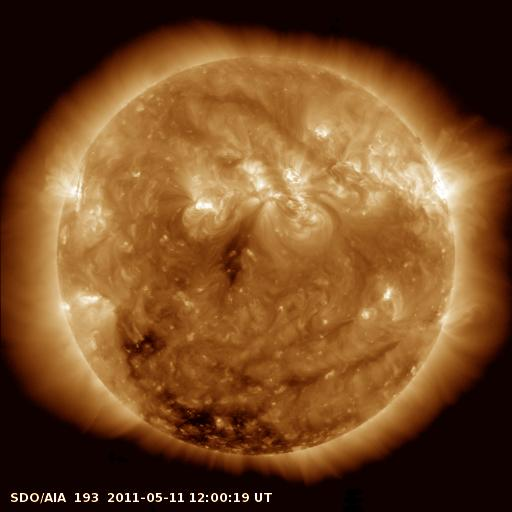coronal_hole: (151, 396, 293, 460), (216, 227, 252, 288), (121, 326, 163, 377)
